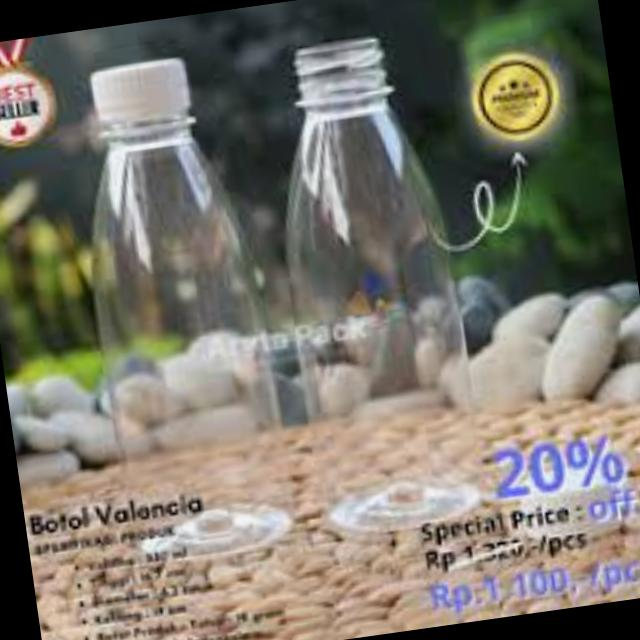trash: (60, 38, 319, 586), (250, 30, 488, 548)
